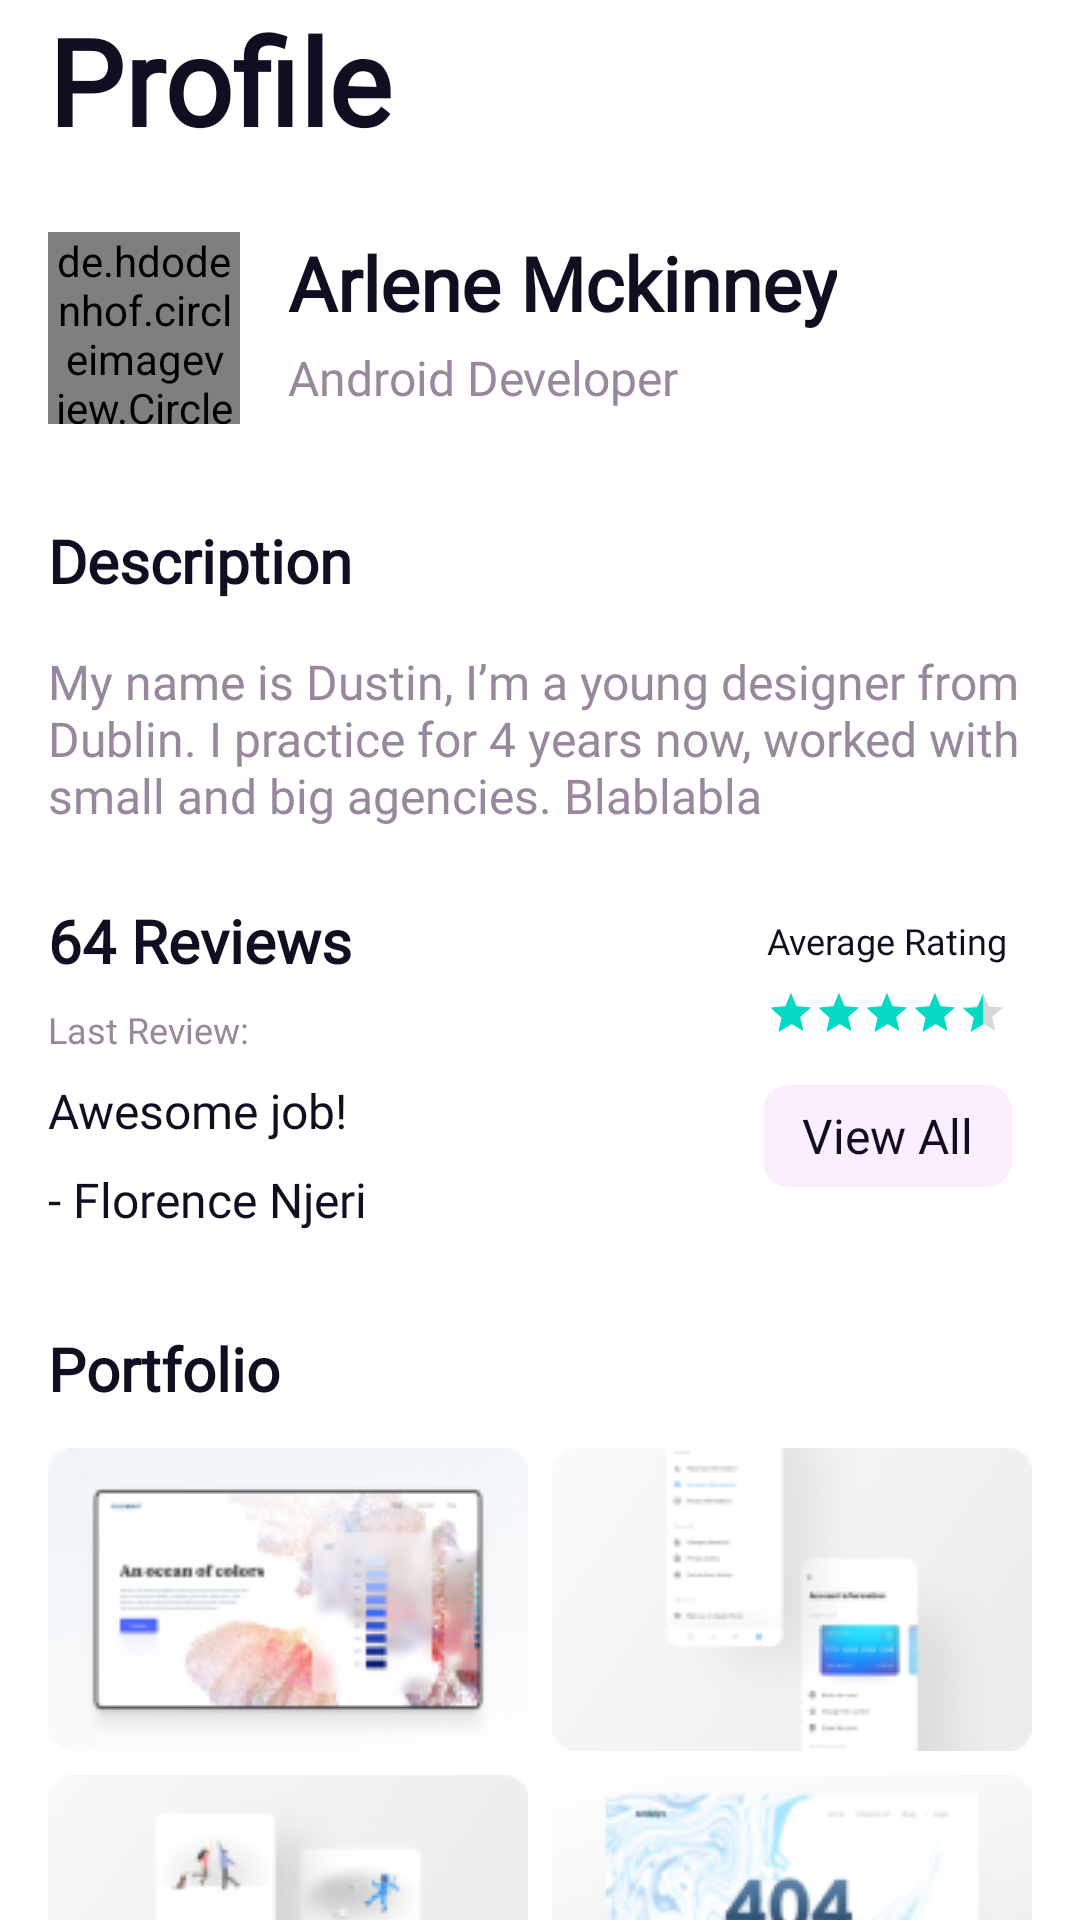

Icons on this 1080 × 1920 Android screen, each with its box as [x1, y1, x2, y2]:
porfolio two: [673, 1454, 955, 1751]
